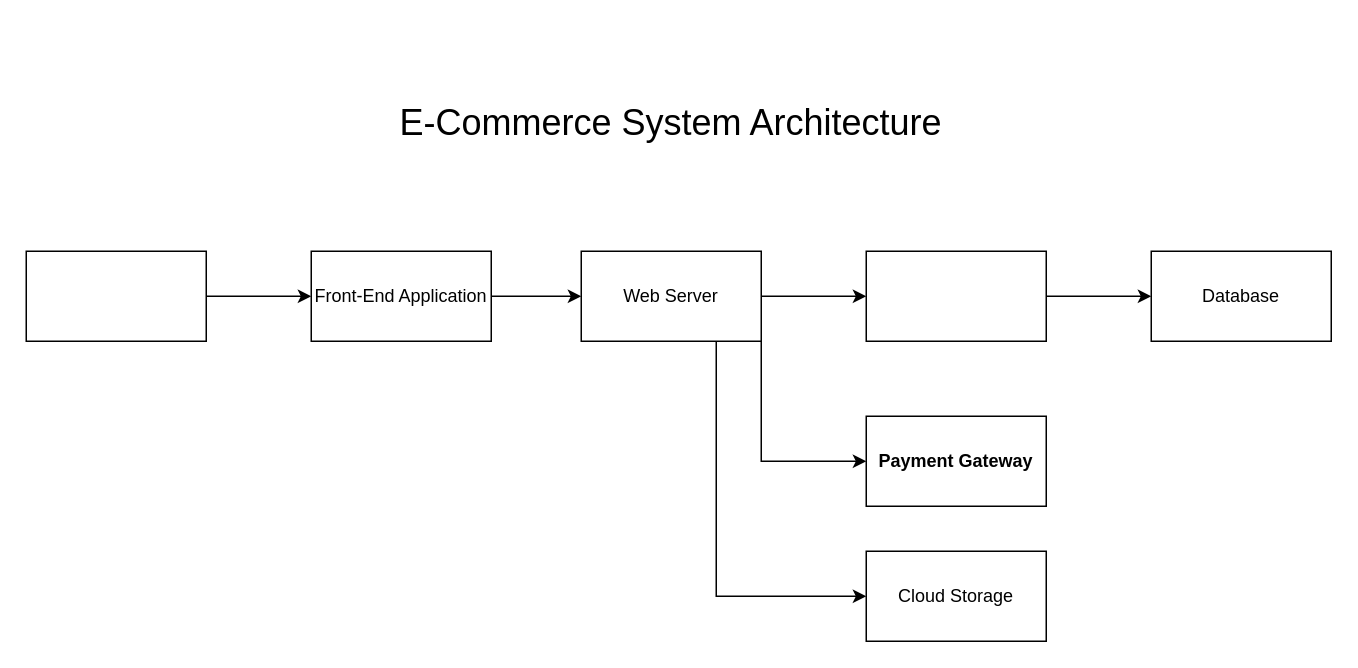
The diagram is 1358 pixels wide and 668 high, and some of its shapes have lost their labels. Here are the shapes that lost their labels. From the top down, the box of each, then its label:
(25, 250, 206, 341): User
(865, 250, 1046, 341): API Gateway
